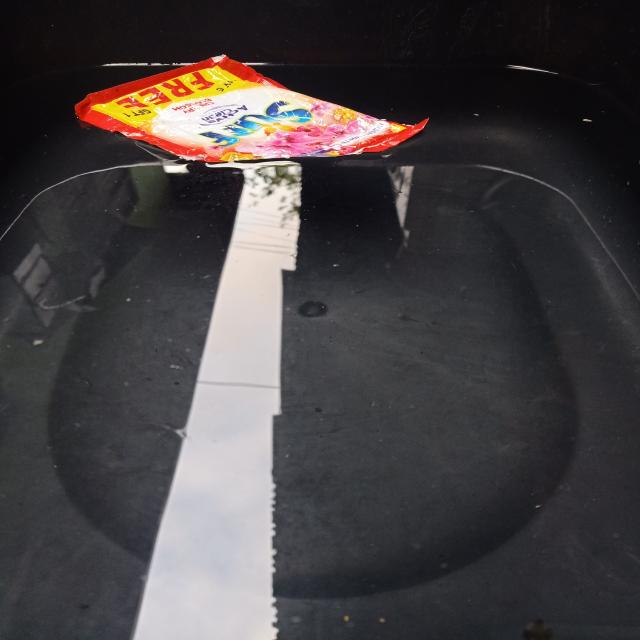Plastic Wrapper: (60, 46, 425, 166)
